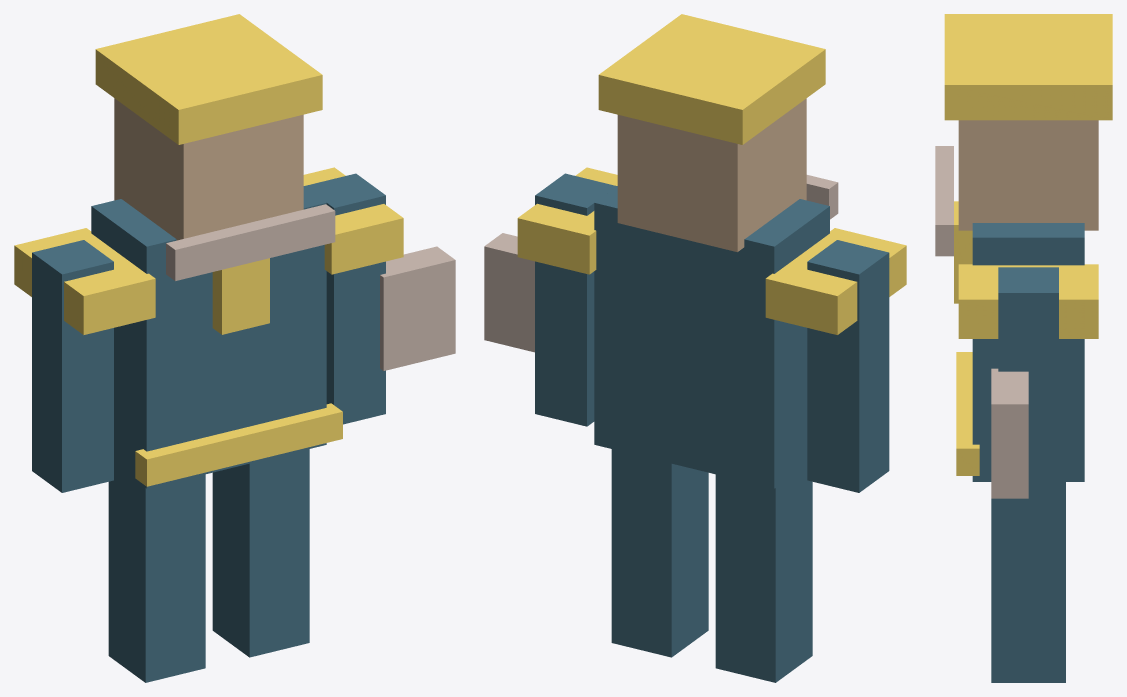
Rendered from 09_sable_cinderholt_guide_near_outer.glb.
The picture shows the model from 3 angles, left to right: view 1: azimuth 30°, elevation 25°; view 2: azimuth 150°, elevation 25°; view 3: azimuth 270°, elevation 25°; orthographic projection.
Visible parts, largest first — view 1: Sable Cinderholt, Guide near Outer; view 2: Sable Cinderholt, Guide near Outer; view 3: Sable Cinderholt, Guide near Outer.
Part boxes in pixels (x1,y1,x2,y2): Sable Cinderholt, Guide near Outer: (14,14,455,682); Sable Cinderholt, Guide near Outer: (484,14,906,682); Sable Cinderholt, Guide near Outer: (935,14,1112,682).
Bounding box in the file's own units: 0.9809 × 1.41 × 0.3823.
